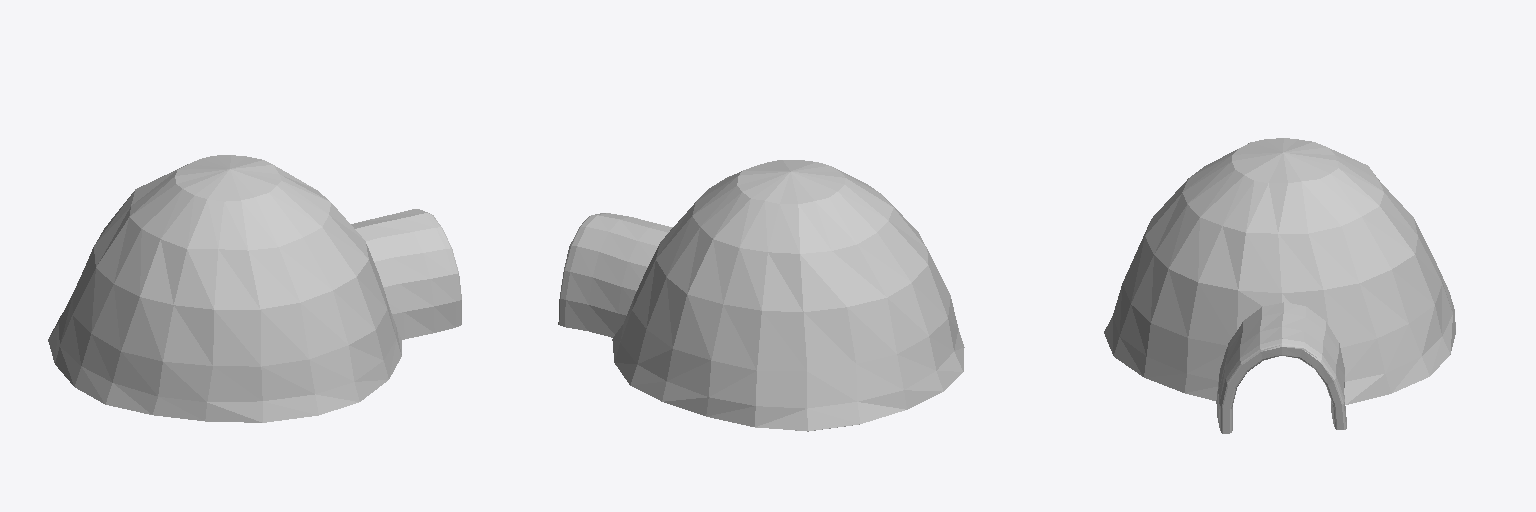
The model's file is igloo_2.obj.
3 renders of one model, left to right at view 1: azimuth 30°, elevation 25°; view 2: azimuth 150°, elevation 25°; view 3: azimuth 270°, elevation 25°, orthographic.
Visible parts, largest first — view 1: Sphere005_Mesh.001; view 2: Sphere005_Mesh.001; view 3: Sphere005_Mesh.001.
Boxes of the visible parts, <box> form: Sphere005_Mesh.001: <box>48,155,461,422</box>; Sphere005_Mesh.001: <box>558,160,964,431</box>; Sphere005_Mesh.001: <box>1104,138,1455,433</box>.
Size of the model in its own units: 5.17 by 2.54 by 4.42.